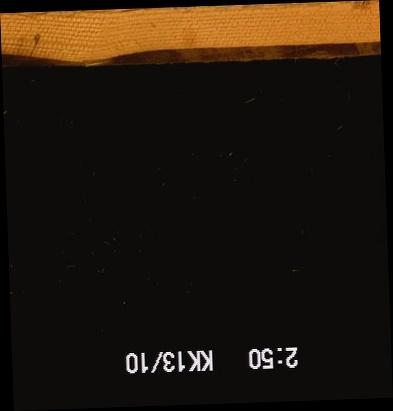wave: (0, 44, 379, 68)
